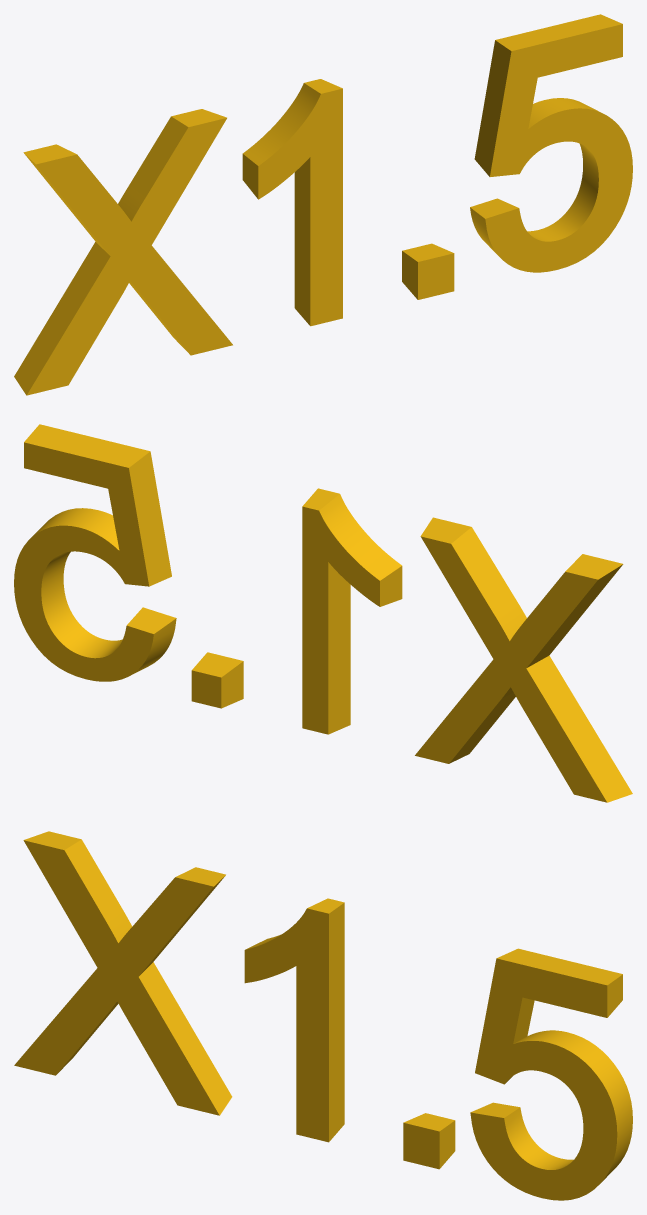
3 views of the same model, one above another, from view 1: azimuth 30°, elevation 25°; view 2: azimuth 150°, elevation 25°; view 3: azimuth 330°, elevation 25° (orthographic).
Parts seen in each view (by area): view 1: Text001; view 2: Text001; view 3: Text001.
Boxes of the visible parts, x1=… form: Text001: x1=14, y1=14, x2=632, y2=395; Text001: x1=14, y1=424, x2=632, y2=802; Text001: x1=14, y1=831, x2=632, y2=1200.
Bounding box in the file's own units: 183 × 67.5 × 10.
